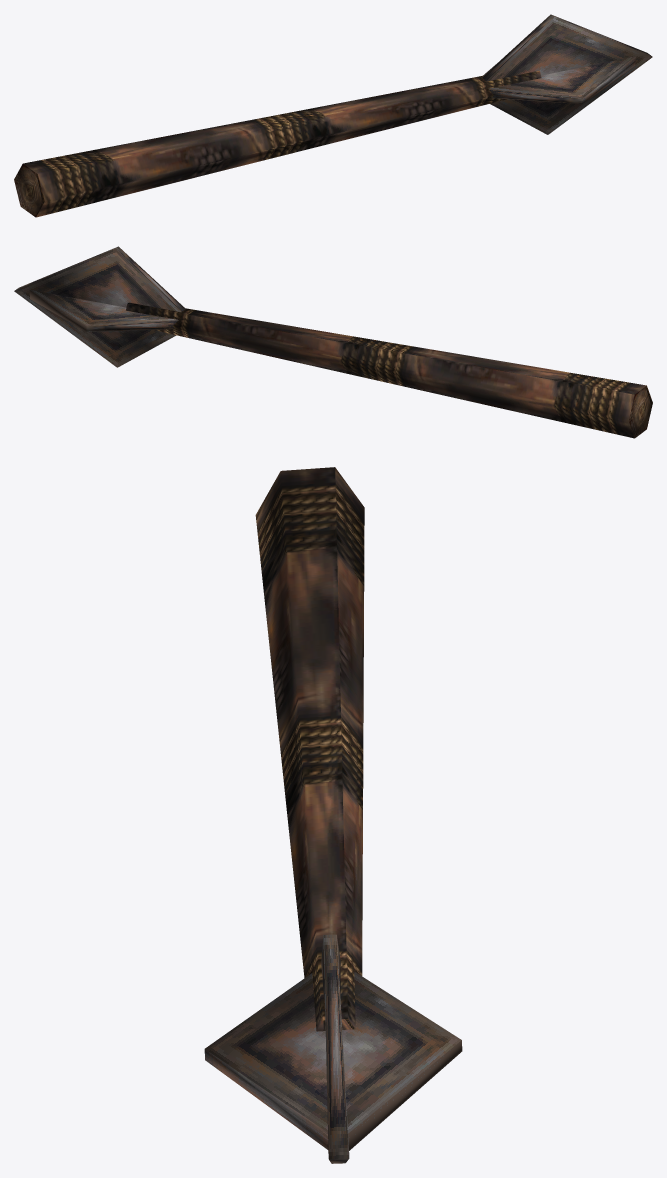
Rendered from ballistamissle01.obj.
The picture shows the model from 3 angles, top to bottom: view 1: azimuth 30°, elevation 25°; view 2: azimuth 150°, elevation 25°; view 3: azimuth 270°, elevation 25°; orthographic projection. The views are drawn at different scales.
Visible parts, largest first — view 1: Geoset0, Geoset2, Geoset1; view 2: Geoset0, Geoset2, Geoset1; view 3: Geoset0, Geoset2.
Boxes of the visible parts, x1=… form: Geoset0: x1=23, y1=71, x2=541, y2=217; Geoset2: x1=482, y1=14, x2=652, y2=134; Geoset1: x1=14, y1=164, x2=44, y2=217; Geoset0: x1=126, y1=302, x2=646, y2=438; Geoset2: x1=14, y1=246, x2=185, y2=367; Geoset1: x1=628, y1=385, x2=652, y2=438; Geoset0: x1=255, y1=467, x2=364, y2=1031; Geoset2: x1=204, y1=934, x2=462, y2=1163.
Bounding box in the file's own units: 11.96 × 2.16 × 2.16.
3 materials, 3 textured.
